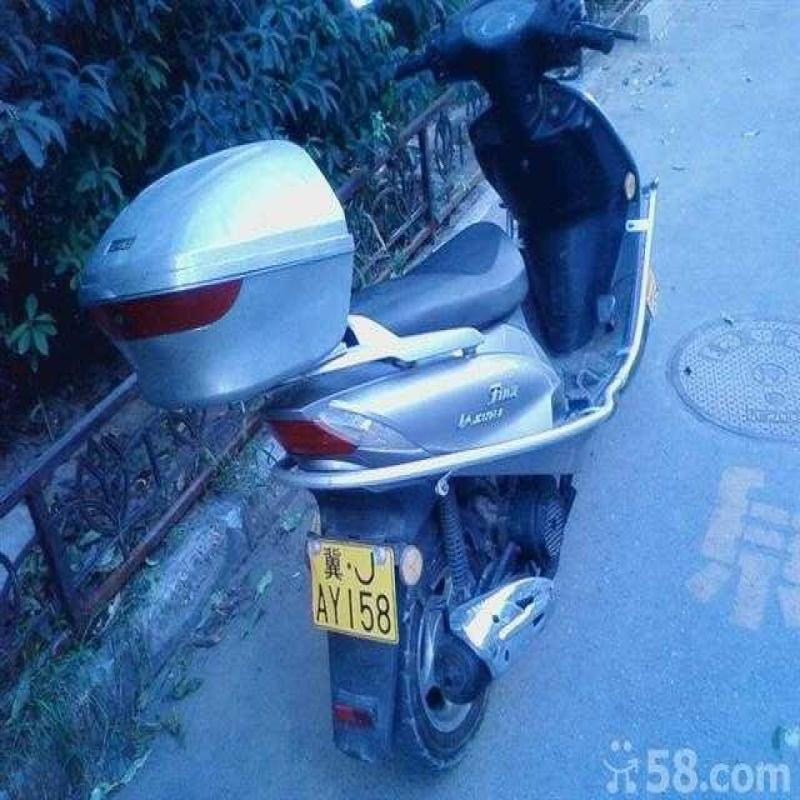bike: (182, 0, 662, 712)
